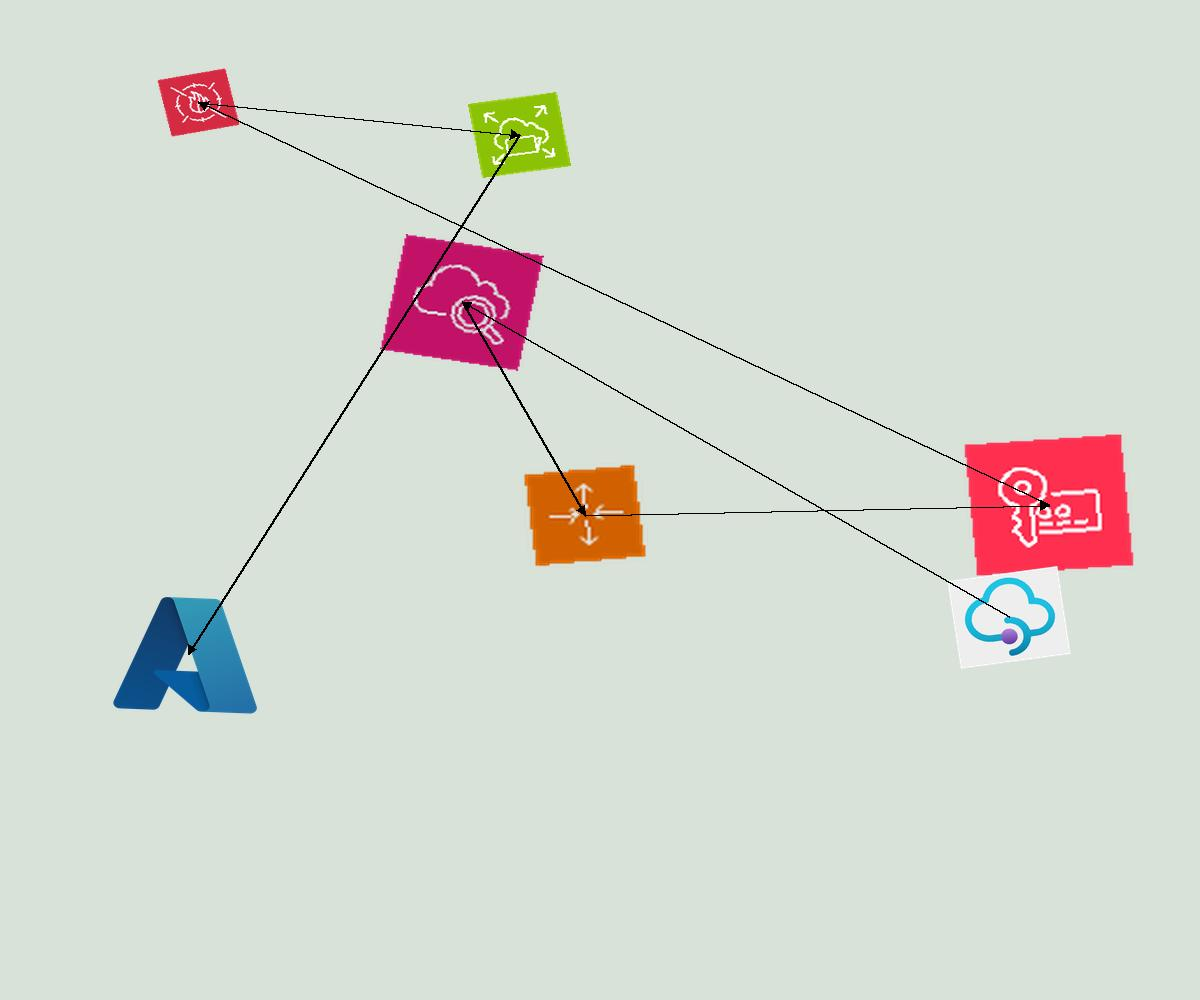AWS-CloudWatch: (380, 234, 544, 371)
AWS-EFS: (468, 92, 571, 178)
AWS-Key-Management-Service: (963, 433, 1135, 577)
AWS-Scaling-group: (522, 463, 648, 568)
AWS-WAF: (157, 68, 240, 137)
Azure_api_gateway: (947, 566, 1071, 669)
Azure_services: (106, 586, 270, 723)
